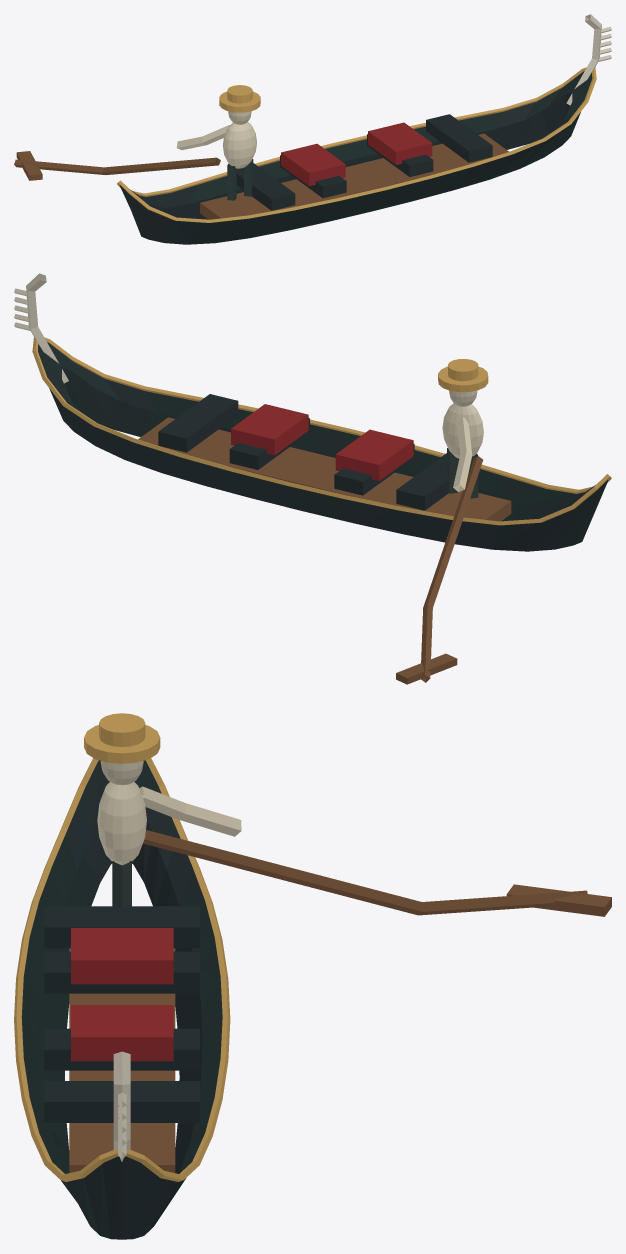
Rendered from gondola.glb.
The picture shows the model from 3 angles, top to bottom: view 1: azimuth 30°, elevation 25°; view 2: azimuth 150°, elevation 25°; view 3: azimuth 270°, elevation 25°; orthographic projection. The views are drawn at different scales.
Visible parts, largest first — view 1: PlayerGondola; view 2: PlayerGondola; view 3: PlayerGondola.
Boxes of the visible parts, box(x1,y1,x2,y2) form: PlayerGondola: box(14, 14, 611, 244); PlayerGondola: box(14, 273, 611, 684); PlayerGondola: box(14, 713, 611, 1239).
Size of the model in its own units: 6.24 by 1.77 by 3.61.
